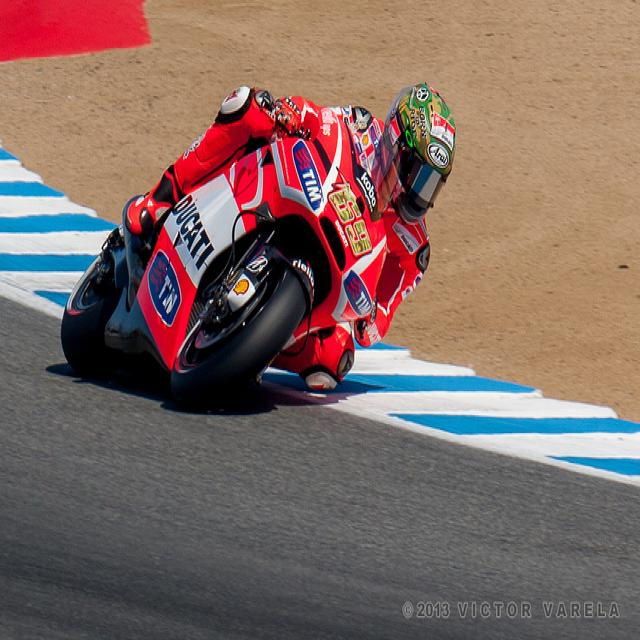motor: (59, 114, 390, 414)
